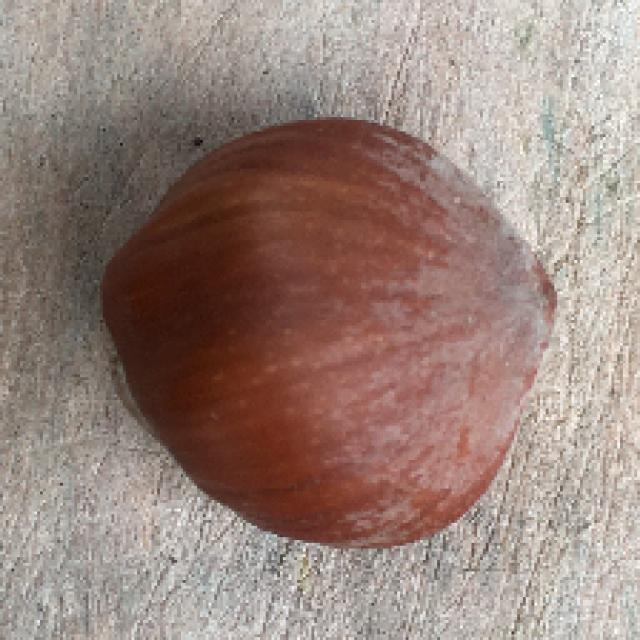qualityHazelnut: (97, 112, 563, 555)
